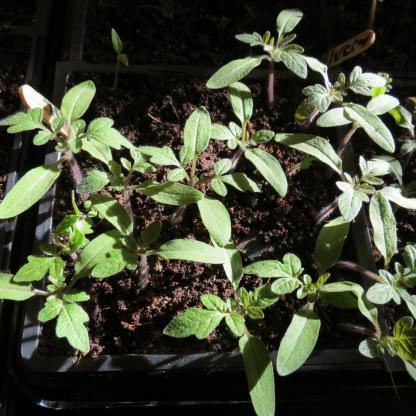tomato leaf: (38, 288, 100, 358), (275, 299, 323, 380), (235, 333, 280, 416), (0, 159, 56, 225), (336, 97, 399, 155), (367, 184, 406, 276), (309, 213, 354, 289), (242, 251, 311, 296), (239, 139, 289, 201), (270, 132, 346, 171), (205, 51, 271, 93), (160, 307, 221, 350), (3, 106, 68, 143), (193, 191, 233, 248), (90, 195, 135, 245), (156, 238, 231, 267), (59, 73, 96, 131), (85, 117, 139, 155), (181, 99, 212, 163), (224, 80, 257, 133), (268, 6, 303, 53), (272, 43, 307, 84), (17, 251, 60, 279)
